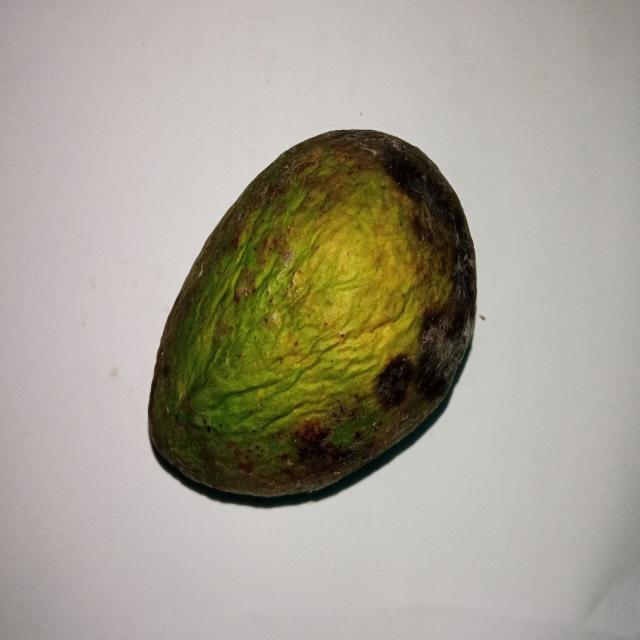rotten_mango: (144, 126, 474, 496)
